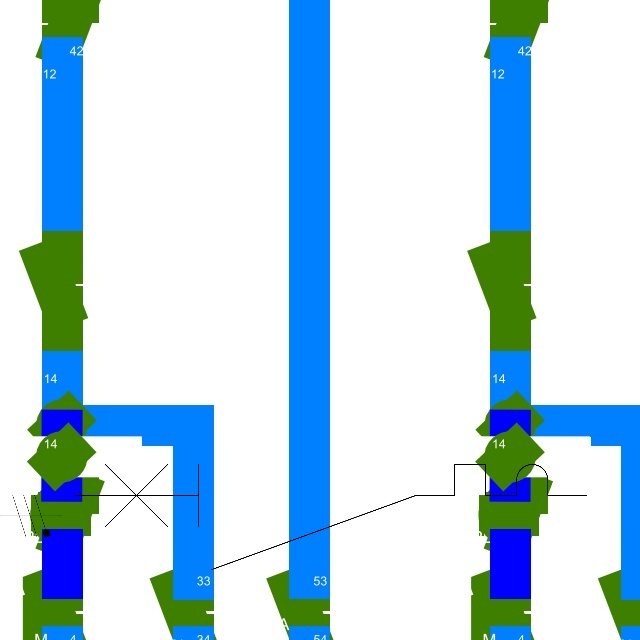interruptor_termomagnetico: (60, 451, 599, 583)
